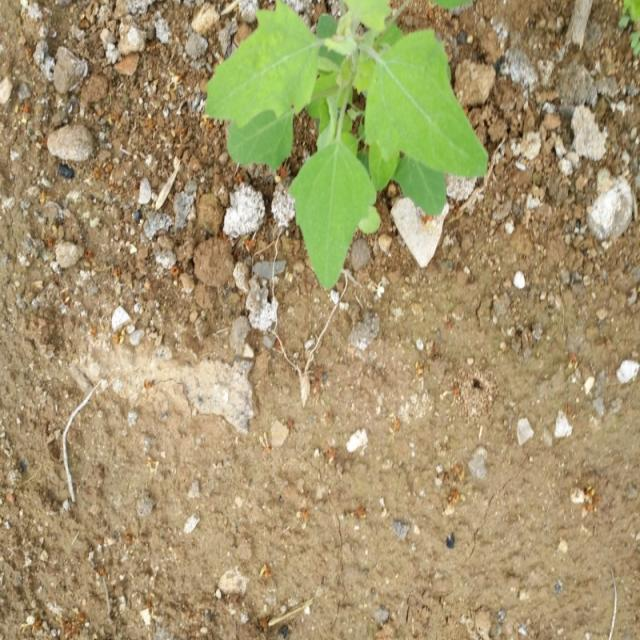ca: (207, 0, 490, 294)
